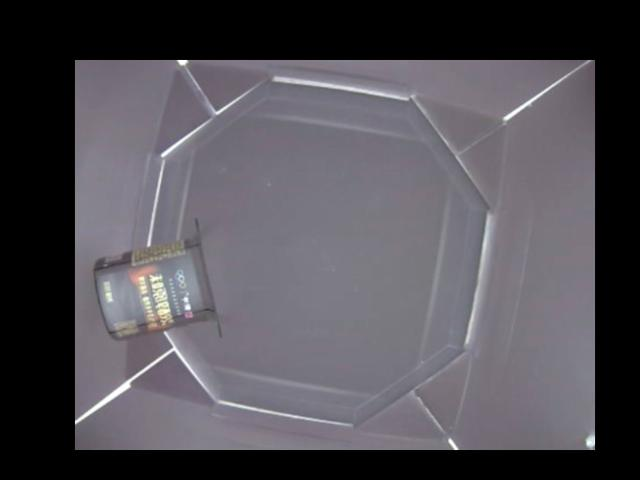Cup: (93, 217, 222, 341)
